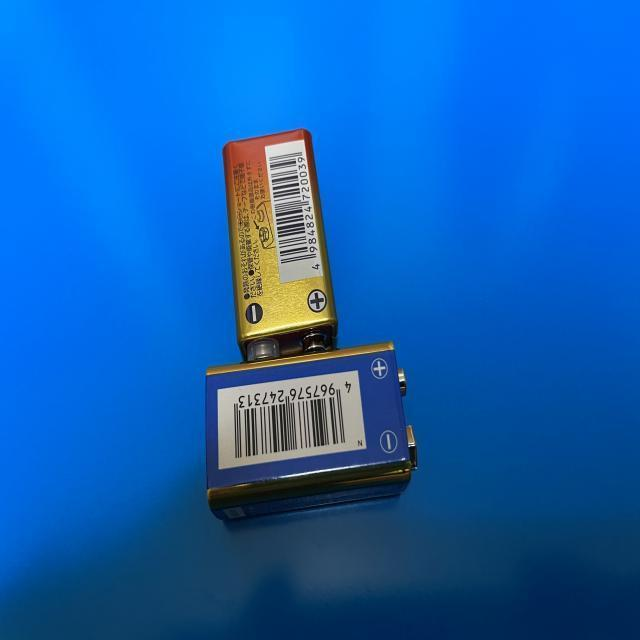9V: (205, 341, 420, 525), (223, 128, 338, 360)
